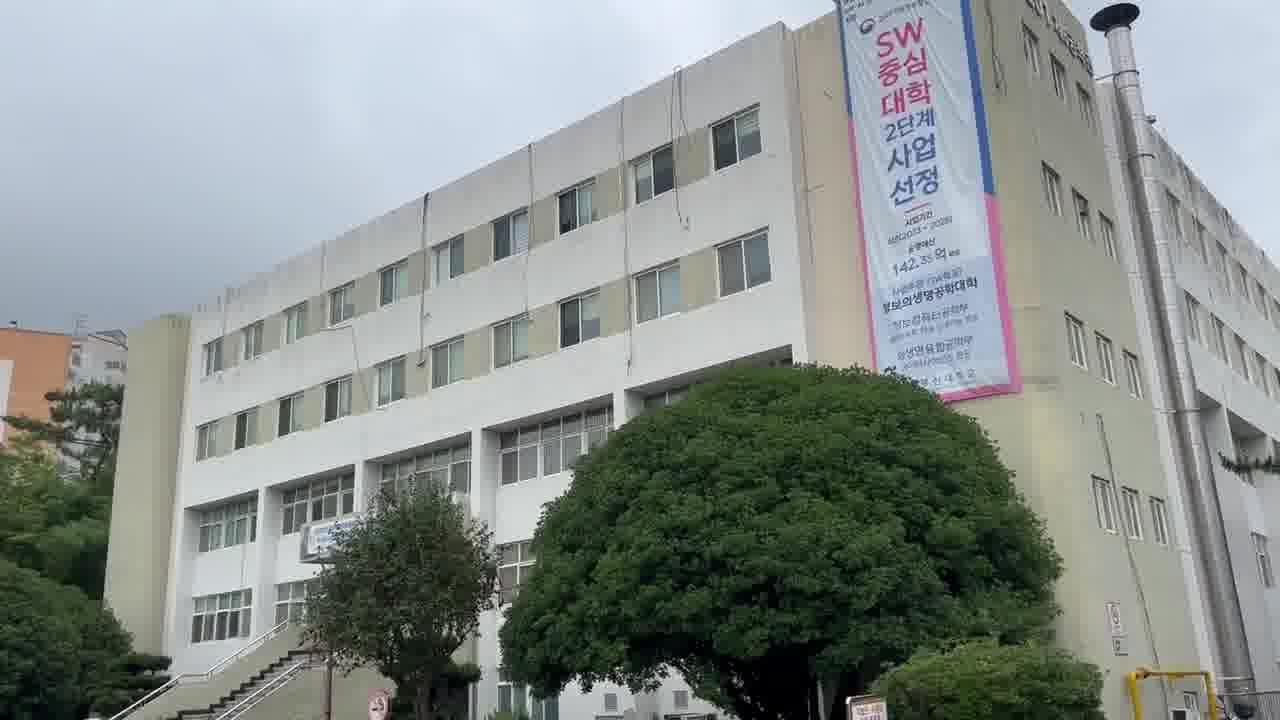low: (96, 41, 791, 383)
